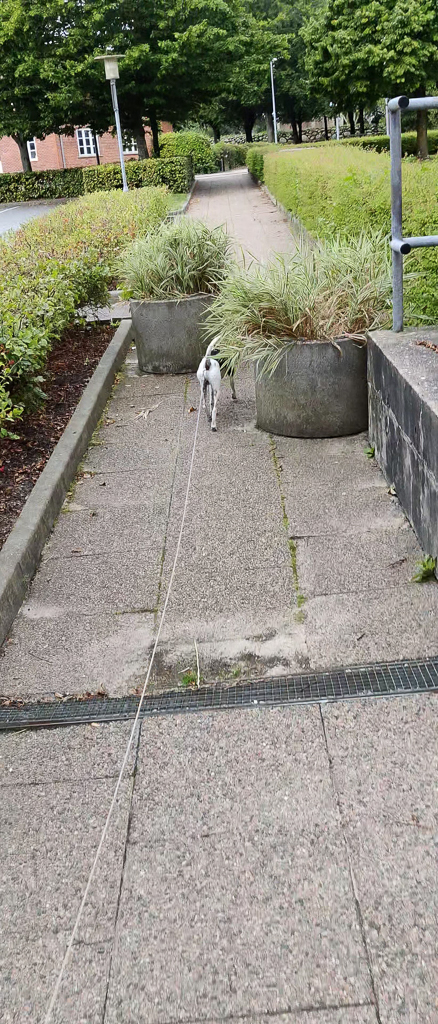Dog: (192, 329, 251, 439)
